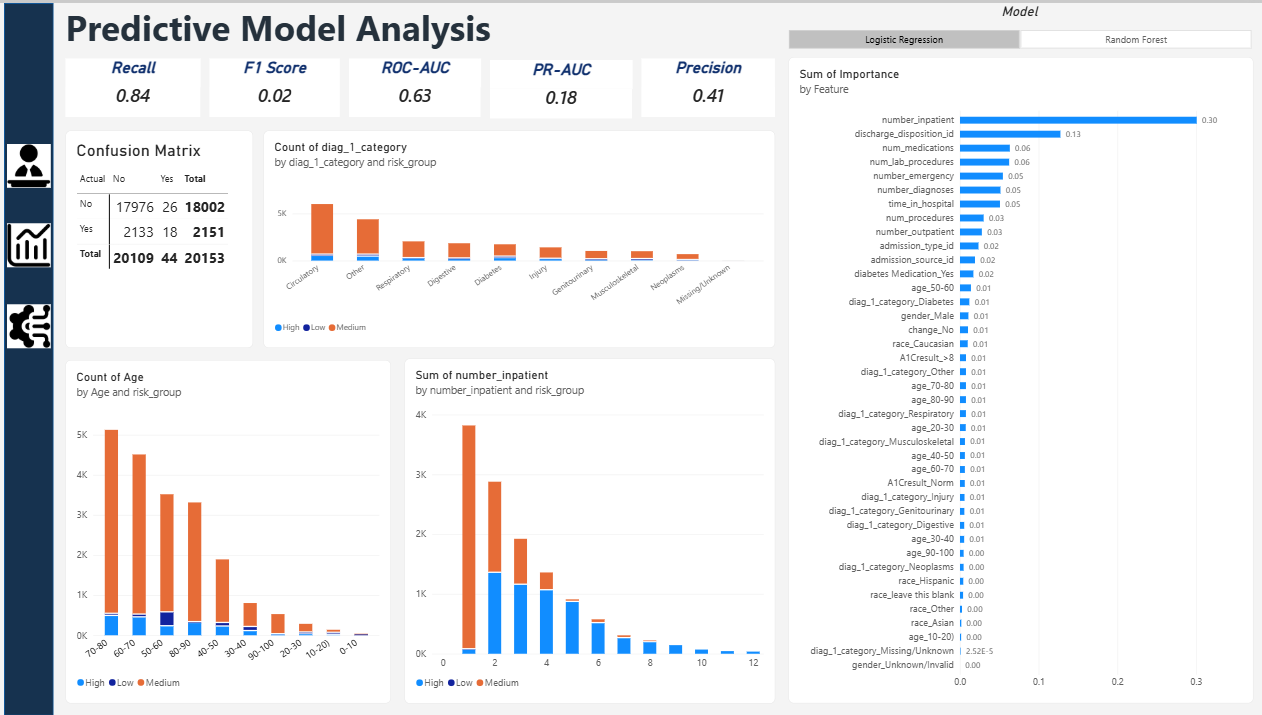

The dashboard page shown, as its layout file describes it:
{"tool":"powerbi","page":{"name":"Predictive Model Analysis","canvas":[1920,1080],"ordinal":2},"visuals":[{"type":"shape","box":[9.1,0,75,1078.9],"z":0},{"type":"slicer","title":"Model","fields":{"Values":["Logistic VS Radom forest.Model"]},"box":[1176.5,0,740.4,70.4],"z":1000},{"type":"textbox","box":[102.2,0,647.3,84],"z":2000},{"type":"pivotTable","title":"Confusion Matrix","fields":{"Columns":["confusion_matrix.Predicted"],"Rows":["confusion_matrix.Actual"],"Values":["Sum(confusion_matrix.Count)"]},"box":[102.2,193.1,283.9,329.3],"z":3000},{"type":"columnChart","fields":{"Category":["readmission_predictions_with_age.Age"],"Series":["readmission_predictions_with_age.risk_group"],"Y":["CountNonNull(readmission_predictions_with_age.Age)"]},"box":[102.2,540.6,492.9,520.1],"z":4000},{"type":"columnChart","fields":{"Category":["readmission_predictions_with_age.diag_1_category"],"Series":["readmission_predictions_with_age.risk_group"],"Y":["CountNonNull(readmission_predictions_with_age.diag_1_category)"]},"box":[402,193.1,774.5,329.3],"z":5000},{"type":"columnChart","fields":{"Category":["readmission_predictions_with_age.number_inpatient"],"Series":["readmission_predictions_with_age.risk_group"],"Y":["Sum(readmission_predictions_with_age.number_inpatient)"]},"box":[615.5,538.3,561,522.4],"z":6000},{"type":"barChart","fields":{"Category":["feature_importance.Feature"],"Y":["Sum(feature_importance.Importance)"]},"box":[1197,81.8,704.1,978.9],"z":7000},{"type":"cardVisual","title":"Recall","fields":{"Data":["Logistic VS Radom forest.Model Recall"]},"box":[102.2,84,204.4,88.6],"z":8000},{"type":"image","box":[13.6,213.5,65.9,65.9],"z":9000},{"type":"image","box":[13.6,333.9,65.9,65.9],"z":10000},{"type":"image","box":[13.6,456.5,65.9,65.9],"z":11000},{"type":"cardVisual","title":"F1 Score","fields":{"Data":["Measures_data.Model F1 Score"]},"box":[320.3,84,197.6,88.6],"z":12000},{"type":"cardVisual","title":"ROC-AUC","fields":{"Data":["Measures_data.ROC-AUC"]},"box":[531.5,84,199.9,88.6],"z":13000},{"type":"cardVisual","title":"PR-AUC","fields":{"Data":["Measures_data.PR-AUC"]},"box":[745,86.3,215.8,88.6],"z":14000},{"type":"cardVisual","title":"Precision","fields":{"Data":["Measures_data.Model Precision"]},"box":[974.4,84,202.1,88.6],"z":15000}]}

Visuals, with their boxes on the page's 1920x1080 design canvas (x1, y1, x2, y2). These are canvas units, not pixel positions in the 1262x715 screenshot, which may show the page scaled, cropped or inside an application window:
shape: locate(9, 0, 84, 1079)
"Model" slicer: locate(1176, 0, 1917, 70)
textbox: locate(102, 0, 750, 84)
"Confusion Matrix" pivotTable: locate(102, 193, 386, 522)
columnChart - readmission_predictions_with_age.Age x readmission_predictions_with_age.risk_group: locate(102, 541, 595, 1061)
columnChart - readmission_predictions_with_age.diag_1_category x readmission_predictions_with_age.risk_group: locate(402, 193, 1176, 522)
columnChart - readmission_predictions_with_age.number_inpatient x readmission_predictions_with_age.risk_group: locate(616, 538, 1176, 1061)
barChart - feature_importance.Feature x Sum(feature_importance.Importance): locate(1197, 82, 1901, 1061)
"Recall" cardVisual: locate(102, 84, 307, 173)
image: locate(14, 214, 80, 279)
image: locate(14, 334, 80, 400)
image: locate(14, 456, 80, 522)
"F1 Score" cardVisual: locate(320, 84, 518, 173)
"ROC-AUC" cardVisual: locate(532, 84, 731, 173)
"PR-AUC" cardVisual: locate(745, 86, 961, 175)
"Precision" cardVisual: locate(974, 84, 1176, 173)
